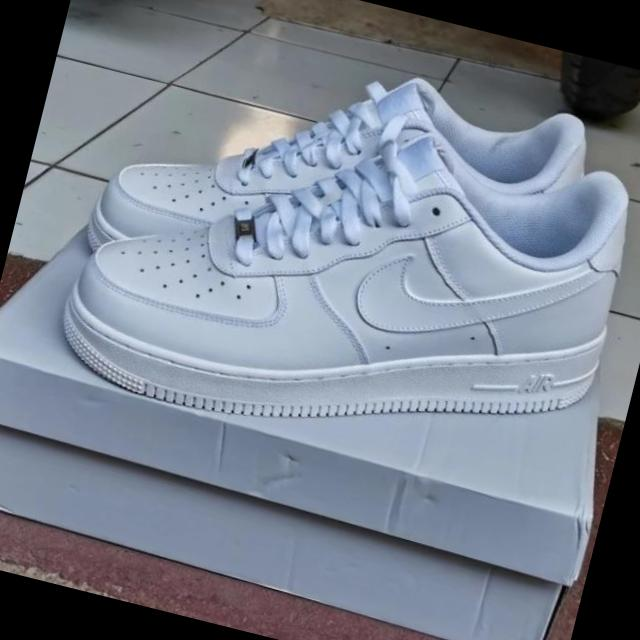nike_fake_airforce: (42, 51, 640, 503), (80, 7, 599, 364)
